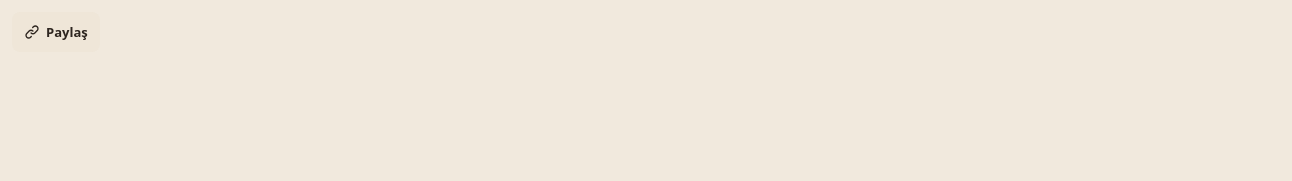
it: share button › when copying is refused, the link is shown selected and focused, and says so
Click the button with class "share-btn": (56, 32) [12,12,100,52]
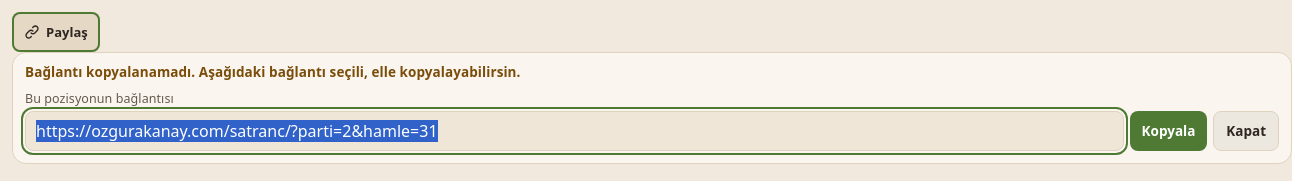
Expected: the message "Bağlantı kopyalanamadı. Aşağıdaki bağlantı seçili, elle kopyalayabilirsin." is shown, [25,63,520,81]
Expected: the field labelled "Bu pozisyonun bağlantısı" holds "https://ozgurakanay.com/satranc/?parti=2&hamle=31", [25,111,1124,151]
Expected: the label "Bu pozisyonun bağlantısı" is shown, [25,90,174,107]
